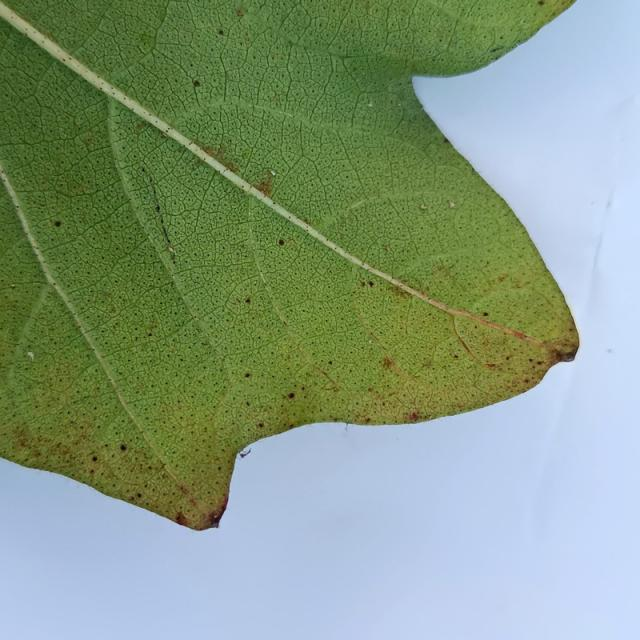Bacterial_Blight: (550, 342, 578, 366), (211, 498, 230, 524), (253, 177, 274, 199), (478, 306, 494, 322), (276, 234, 288, 253), (51, 216, 66, 230), (190, 76, 203, 87), (239, 448, 251, 458), (409, 412, 419, 421), (166, 243, 174, 254), (27, 351, 35, 361), (211, 515, 219, 525), (236, 8, 244, 17), (363, 1, 370, 11), (287, 392, 295, 399), (175, 514, 182, 522), (120, 444, 127, 451), (449, 201, 456, 208), (537, 1, 545, 7), (368, 281, 374, 287), (245, 298, 251, 304), (218, 29, 224, 35), (92, 456, 98, 462), (271, 55, 277, 61), (155, 205, 160, 212), (244, 373, 250, 378), (453, 354, 459, 359), (365, 417, 370, 423), (137, 492, 142, 498), (147, 332, 152, 337), (258, 423, 263, 428), (217, 466, 222, 471), (141, 168, 146, 173), (536, 361, 542, 365), (328, 360, 332, 365), (246, 401, 250, 406), (505, 356, 510, 360), (301, 386, 305, 391), (90, 469, 94, 474), (528, 358, 533, 362), (289, 424, 294, 428), (62, 58, 66, 62), (15, 205, 19, 209), (123, 96, 126, 100)
Cotton: (0, 0, 578, 530)
